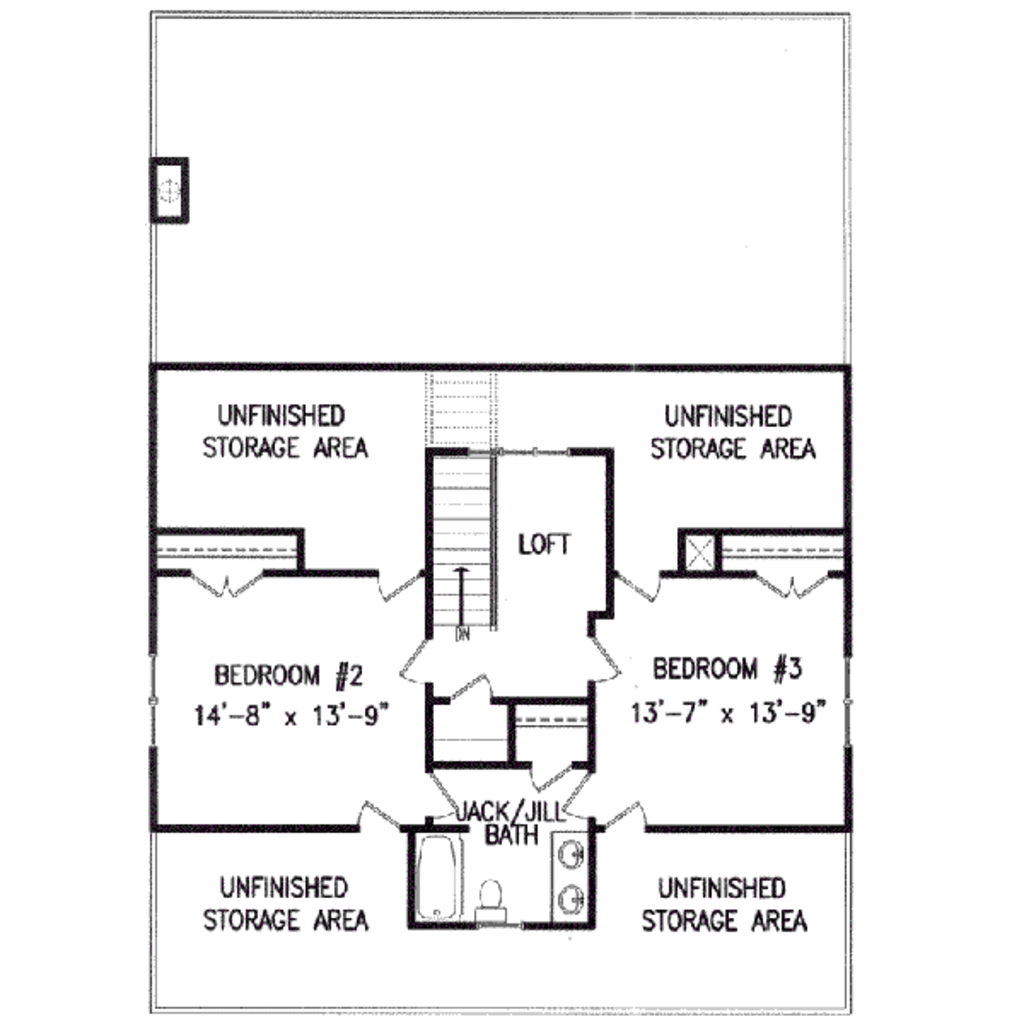door: (188, 564, 273, 601), (744, 566, 833, 600), (577, 636, 625, 691), (606, 560, 664, 603), (402, 630, 441, 693), (367, 566, 427, 601), (562, 764, 597, 820), (598, 797, 649, 835), (427, 766, 459, 825), (349, 801, 404, 835), (442, 670, 495, 701), (529, 754, 573, 790)
large_sink: (475, 875, 516, 927)
small_sink: (547, 831, 603, 922)
stairs: (425, 361, 499, 639)
tub: (415, 833, 469, 918)
